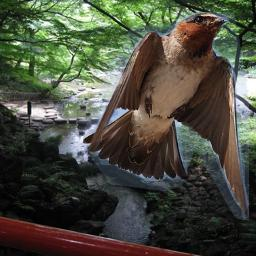Swallow: (83, 12, 249, 220)
